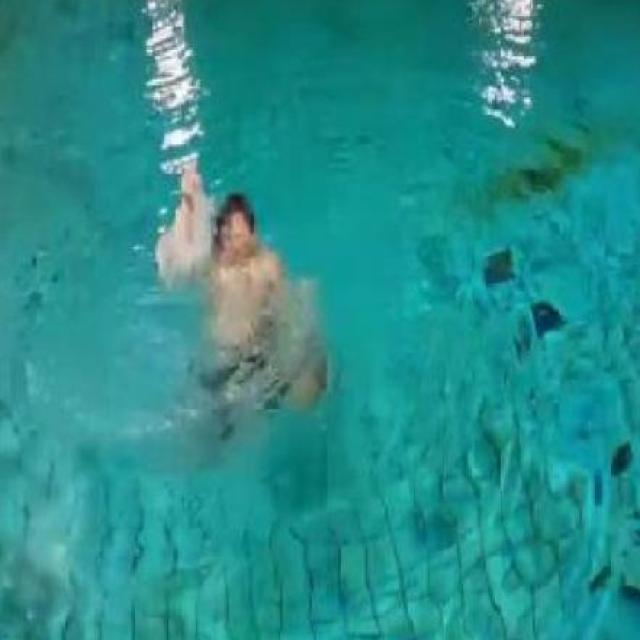Drowning: (148, 158, 330, 416)
